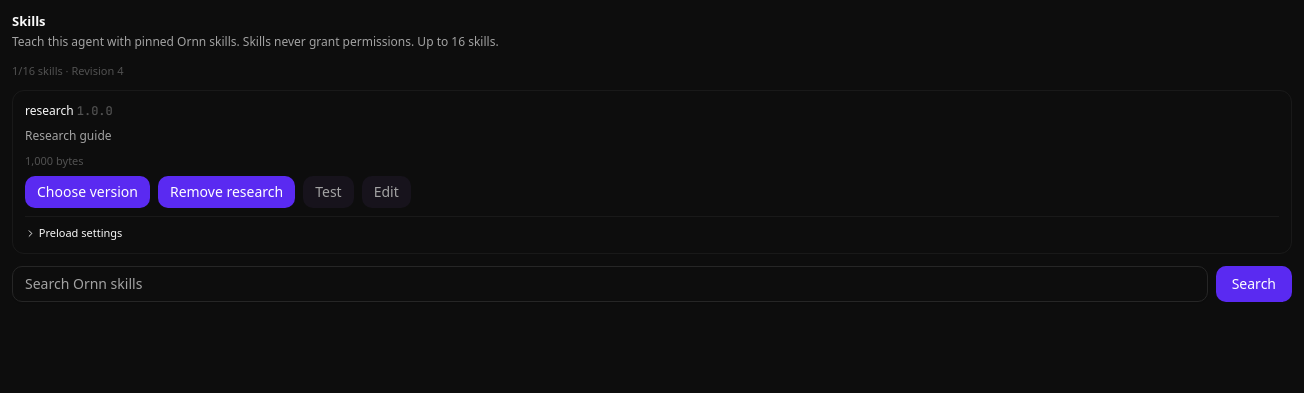
Scenario: tests a pin only on request and shows what the agent reads
Expected: the text "Research guide" is shown, [25, 127, 112, 144]
Click the button with aria-label "Test research" at (328, 192), box [303, 176, 354, 208]
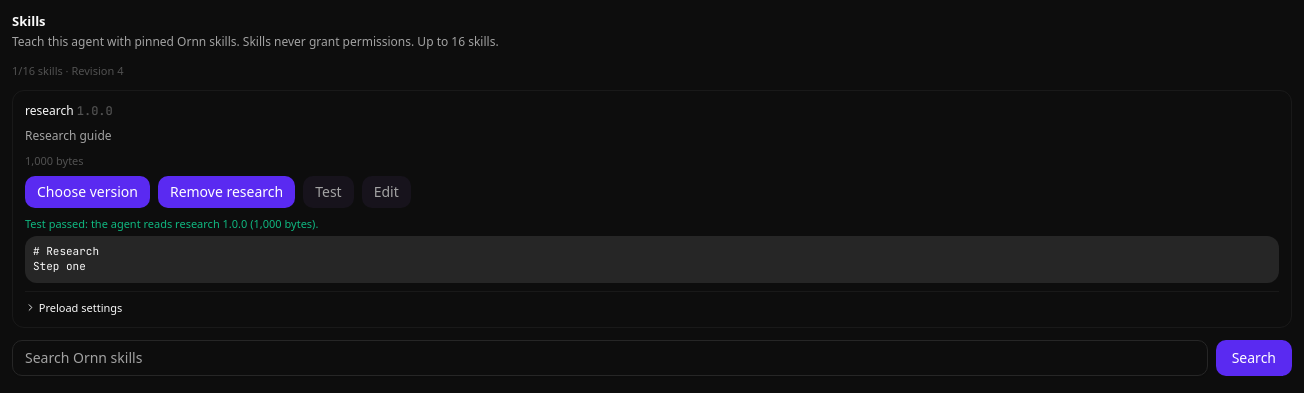
Result: the text "Test passed: the agent reads research 1.0.0 (1,000 bytes)." is shown at [25, 216, 318, 231]
Result: the text named "research SKILL.md excerpt" reads "# Research Step one" at [33, 244, 99, 273]
